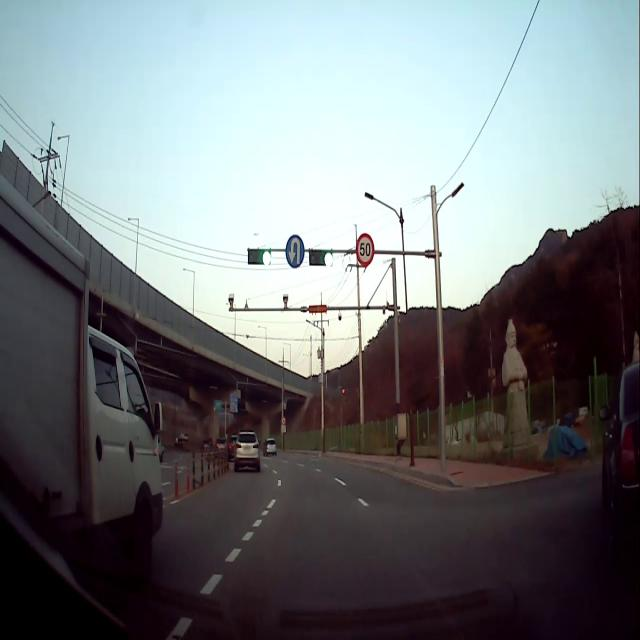Green Light: (323, 249, 334, 268), (262, 248, 271, 266)
